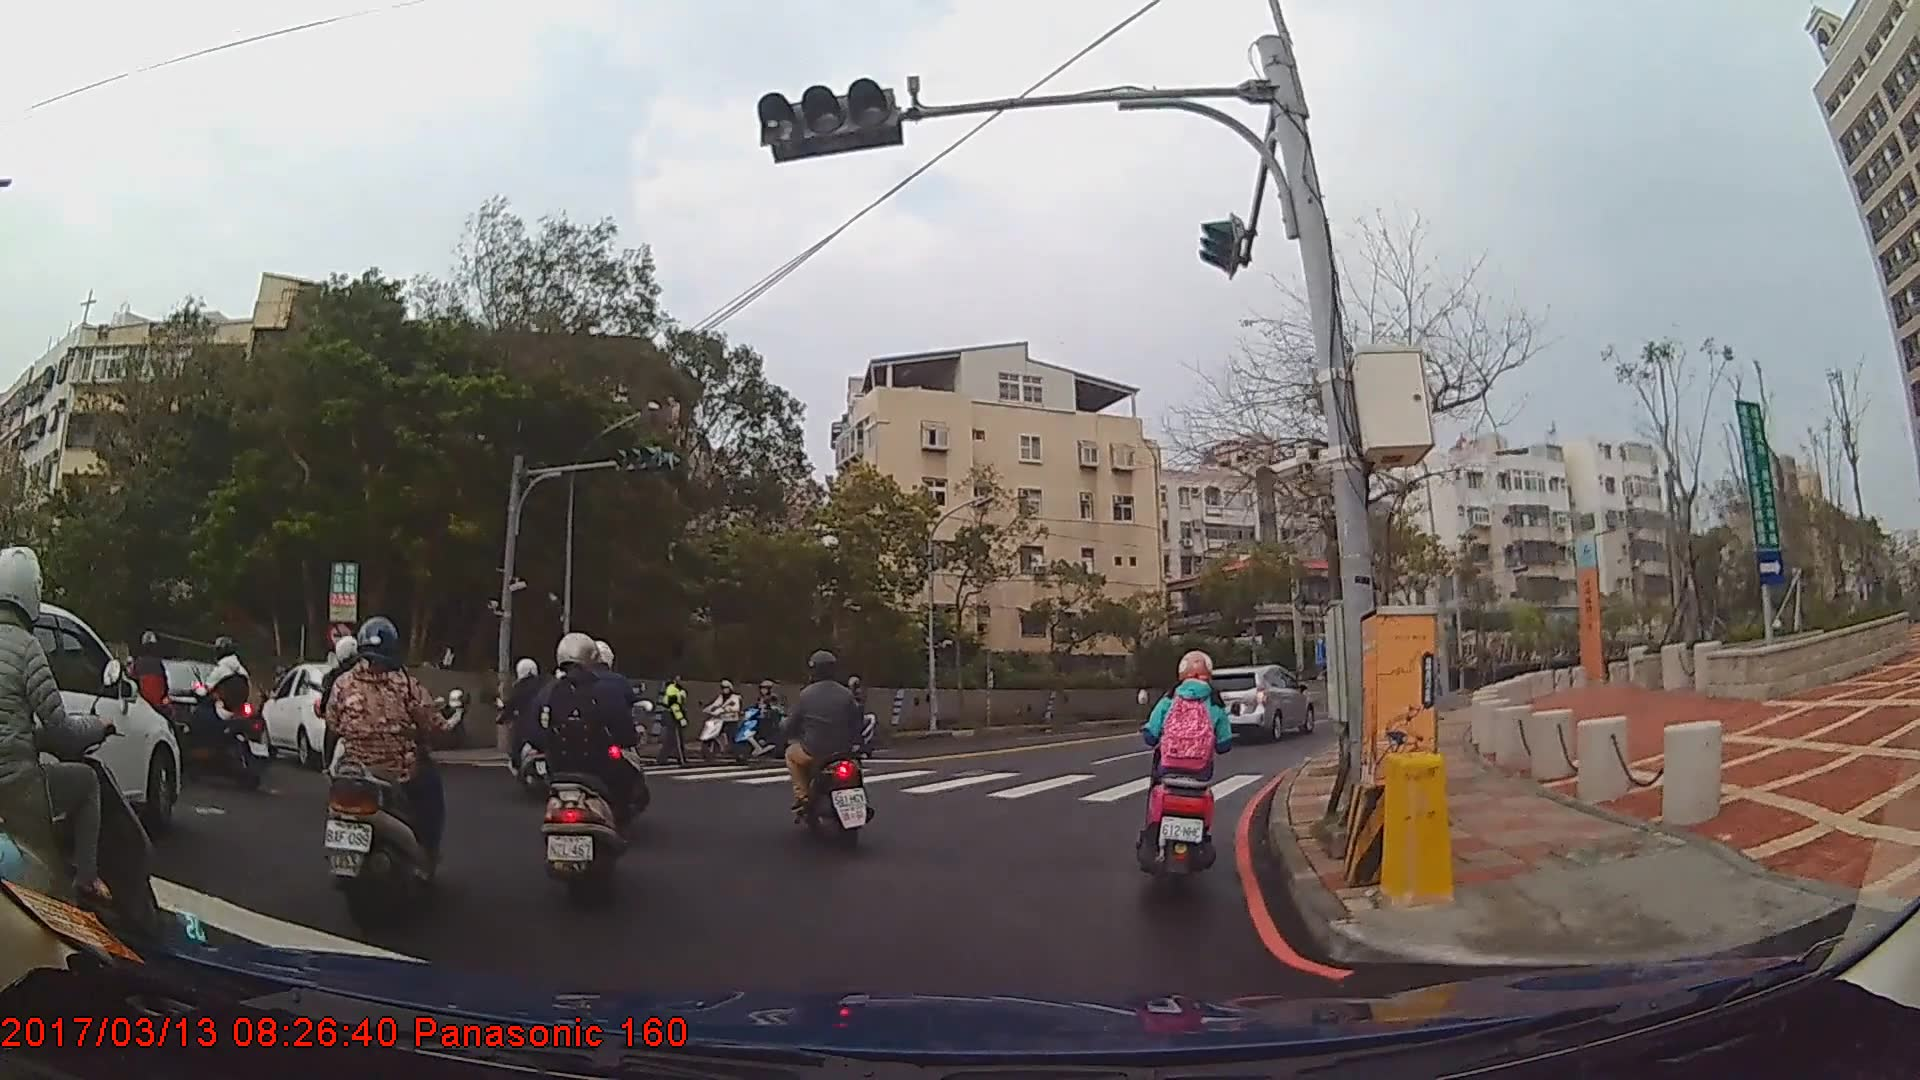pedestrian: (654, 671, 697, 772)
rider: (1, 547, 173, 1006), (317, 620, 450, 924), (525, 631, 642, 903), (1140, 650, 1237, 892), (779, 649, 876, 851), (568, 642, 649, 833), (489, 659, 568, 799), (189, 633, 257, 787), (115, 631, 177, 769), (736, 680, 794, 760), (824, 679, 878, 763), (700, 679, 750, 760)
vehicle: (0, 594, 179, 833), (259, 663, 389, 766), (1194, 664, 1315, 743)
